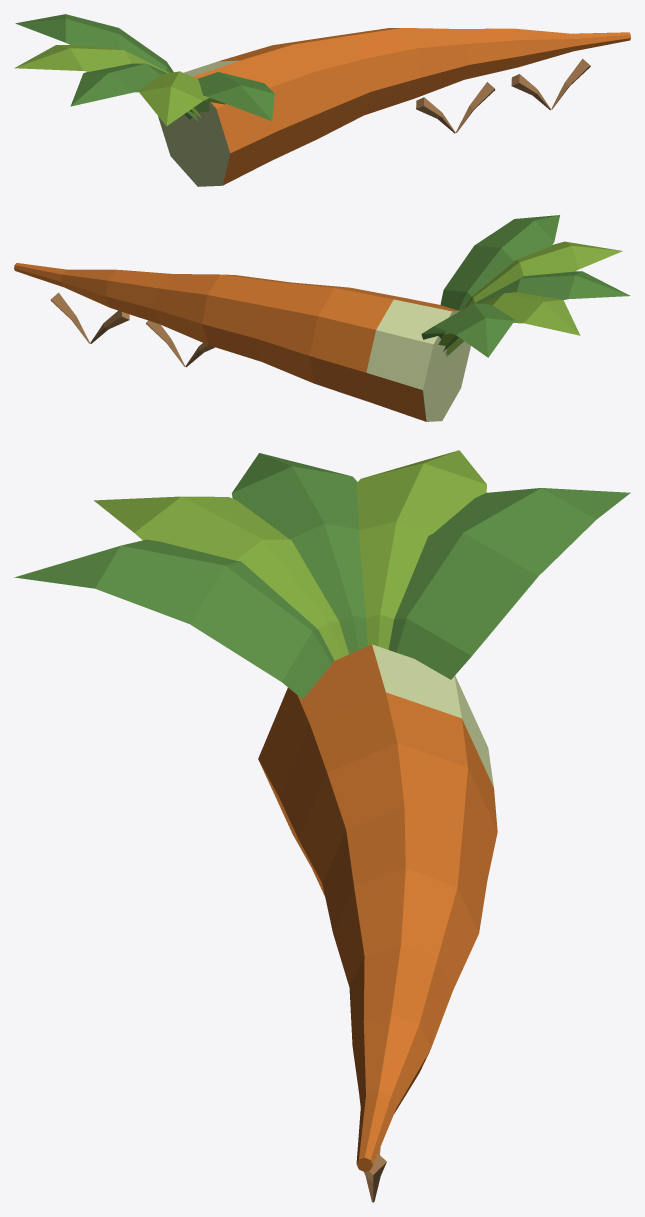
Rendered from mdvl_food_carrot_01.glb.
The picture shows the model from 3 angles, top to bottom: view 1: azimuth 30°, elevation 25°; view 2: azimuth 150°, elevation 25°; view 3: azimuth 270°, elevation 25°; orthographic projection. The views are drawn at different scales.
Visible parts, largest first — view 1: mdvl_food_carrot_01; view 2: mdvl_food_carrot_01; view 3: mdvl_food_carrot_01.
Part boxes in pixels (<box>): mdvl_food_carrot_01: <box>14,14,630,186</box>; mdvl_food_carrot_01: <box>14,215,630,421</box>; mdvl_food_carrot_01: <box>14,450,630,1202</box>.
Size of the model in its own units: 0.2315 by 0.0622 by 0.1118.
1 material, 1 textured.
